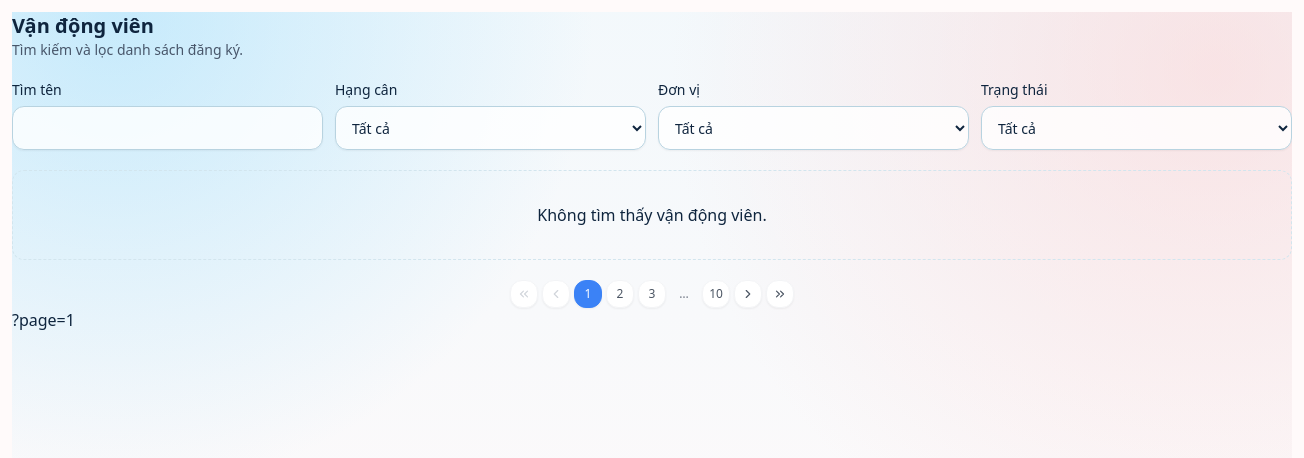
Scenario: Athlete pagination › requests the selected page and keeps it after the search debounce interval
The width and height of the screenshot is (1304, 458).
Click the button named "Trang 3" at (652, 294), box [638,280,666,308]
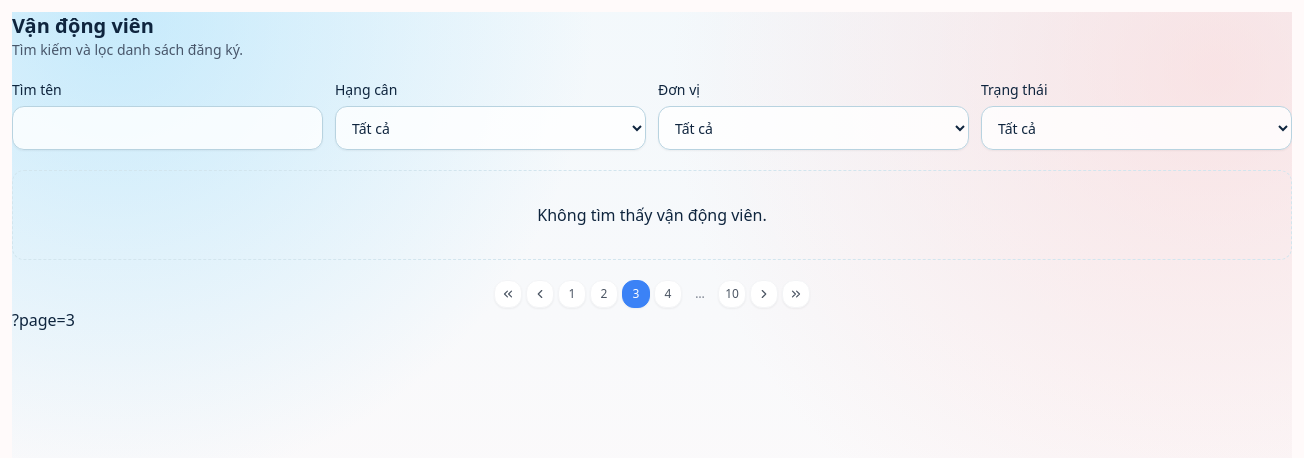
Expected: the text named "URL" reads "?page=3", [12,309,75,331]
Click the button named "Trang sau" at (764, 294), box [750,280,778,308]
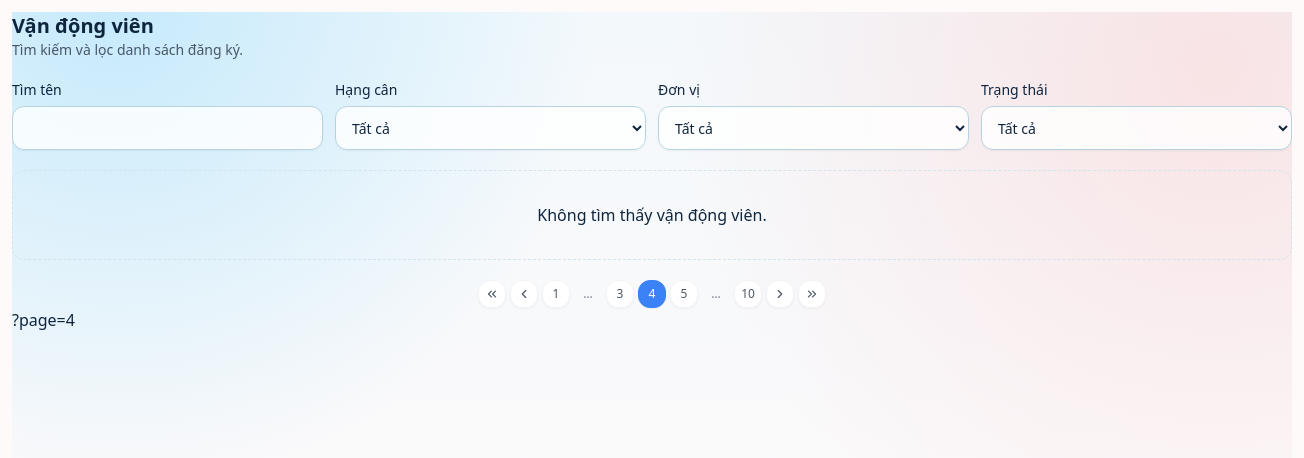
Click the button named "Trang cuối" at (812, 294), box [798,280,826,308]
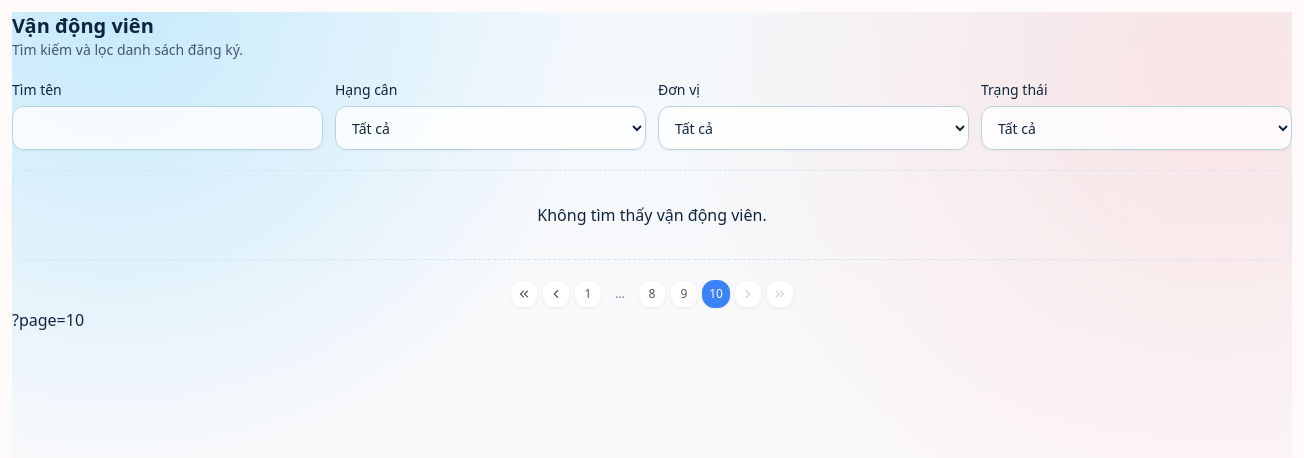
Expected: the text named "URL" reads "?page=10", [12,309,84,331]
Expected: the button named "Trang sau" is disabled, [734,280,762,308]
